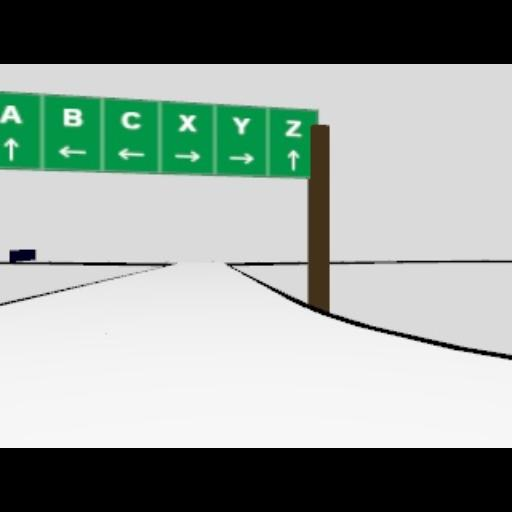A: (0, 102, 22, 124)
B: (62, 108, 84, 126)
C: (120, 110, 140, 130)
Left: (116, 148, 146, 160), (58, 146, 86, 158)
Right: (172, 150, 202, 162), (228, 152, 254, 164)
Straight: (3, 136, 17, 160), (286, 148, 300, 170)
X: (178, 113, 196, 131)
Y: (232, 116, 252, 134)
Z: (285, 118, 303, 136)
